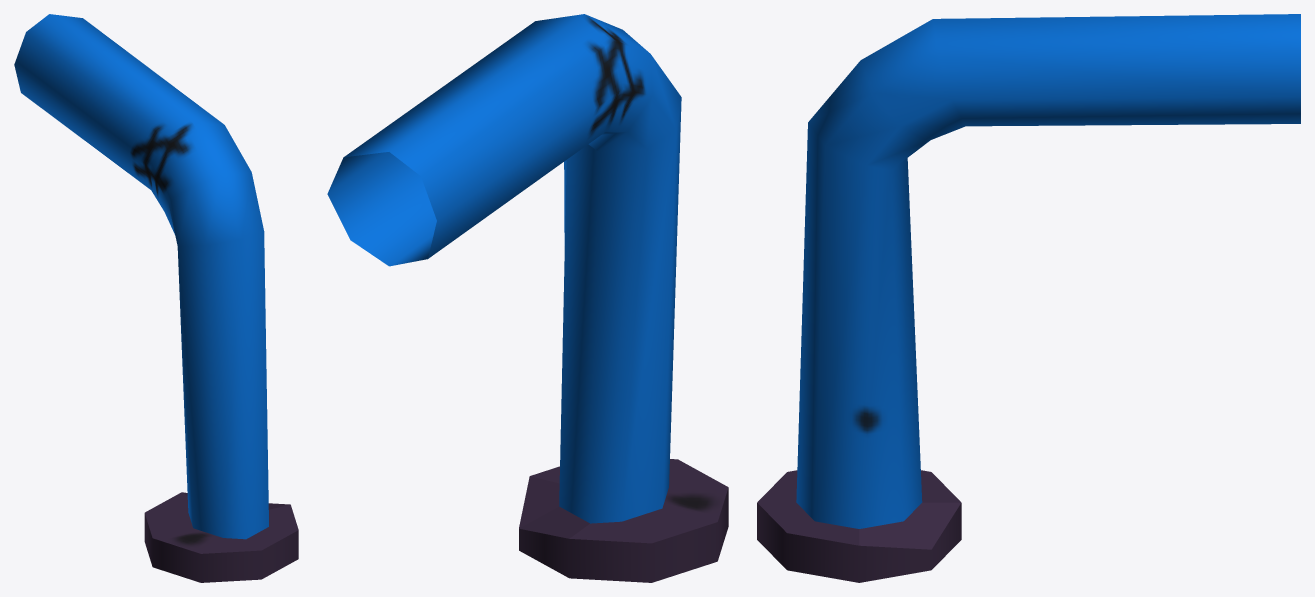
The model's file is Tap_Corner.fbx.
3 renders of one model, left to right at view 1: azimuth 30°, elevation 25°; view 2: azimuth 150°, elevation 25°; view 3: azimuth 270°, elevation 25°, orthographic. The views are drawn at different scales.
Parts seen in each view (by area): view 1: Cylinder017; view 2: Cylinder017; view 3: Cylinder017.
Part boxes in pixels (x1=…): Cylinder017: x1=14, y1=14, x2=298, y2=582; Cylinder017: x1=327, y1=14, x2=728, y2=582; Cylinder017: x1=757, y1=14, x2=1300, y2=582.
Size of the model in its own units: 0.1093 by 0.3101 by 0.2906.
